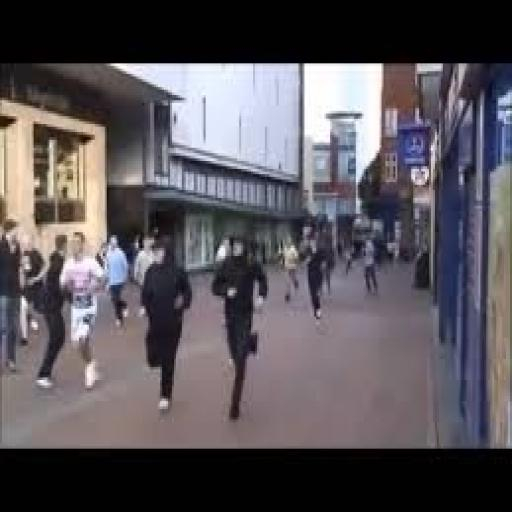running: (209, 230, 271, 425), (138, 230, 196, 417), (57, 227, 113, 393)
